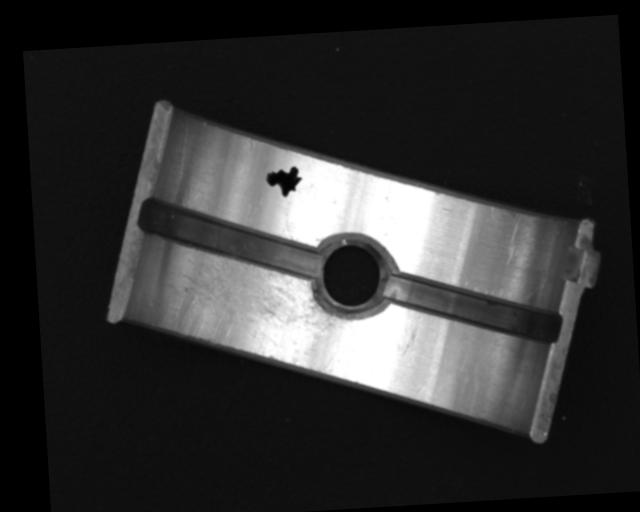blot: (264, 164, 305, 200)
gap: (142, 189, 320, 288), (382, 264, 561, 354)
hole: (310, 227, 394, 321)
nick: (502, 214, 525, 264)
scratch: (158, 240, 353, 391)
